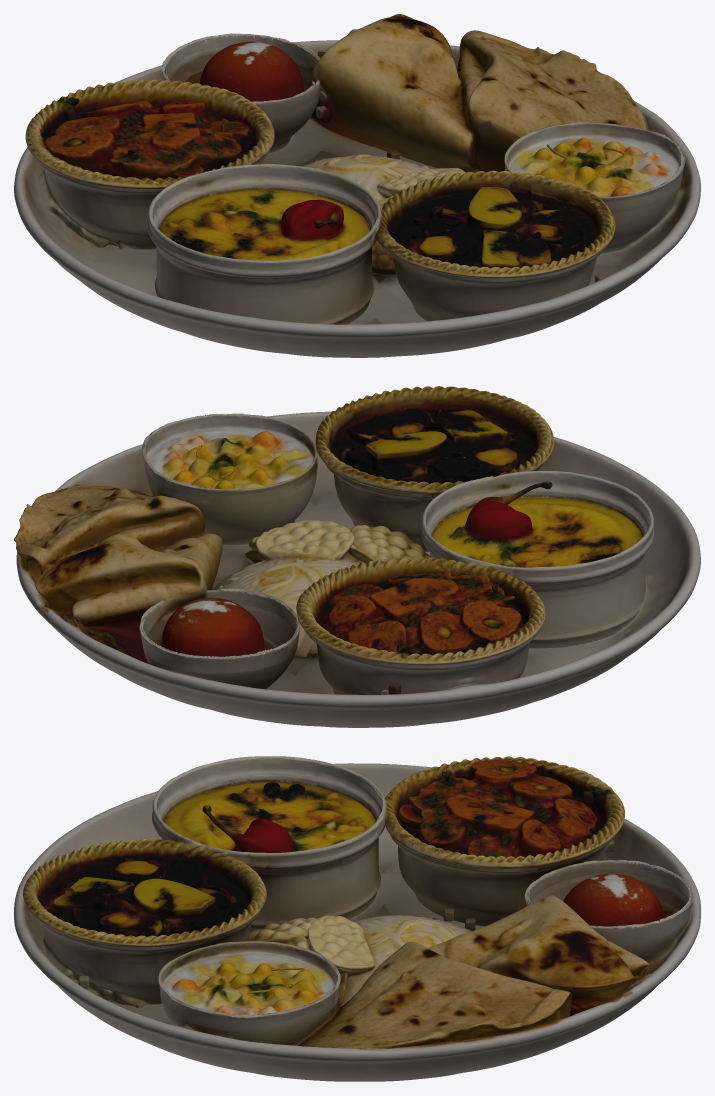
The model's file is Thali 2.glb.
The picture shows the model from 3 angles, top to bottom: view 1: azimuth 30°, elevation 25°; view 2: azimuth 150°, elevation 25°; view 3: azimuth 270°, elevation 25°; orthographic projection.
Parts seen in each view (by area): view 1: tripo_node_da43227e-f6e8-42e1-a48a-7106216818f1; view 2: tripo_node_da43227e-f6e8-42e1-a48a-7106216818f1; view 3: tripo_node_da43227e-f6e8-42e1-a48a-7106216818f1.
Boxes of the visible parts, x1=… form: tripo_node_da43227e-f6e8-42e1-a48a-7106216818f1: x1=14, y1=14, x2=700, y2=357; tripo_node_da43227e-f6e8-42e1-a48a-7106216818f1: x1=14, y1=386, x2=700, y2=727; tripo_node_da43227e-f6e8-42e1-a48a-7106216818f1: x1=14, y1=756, x2=700, y2=1081.
Bounding box in the file's own units: 7.61 × 1.39 × 7.61.
1 material, 1 textured.
